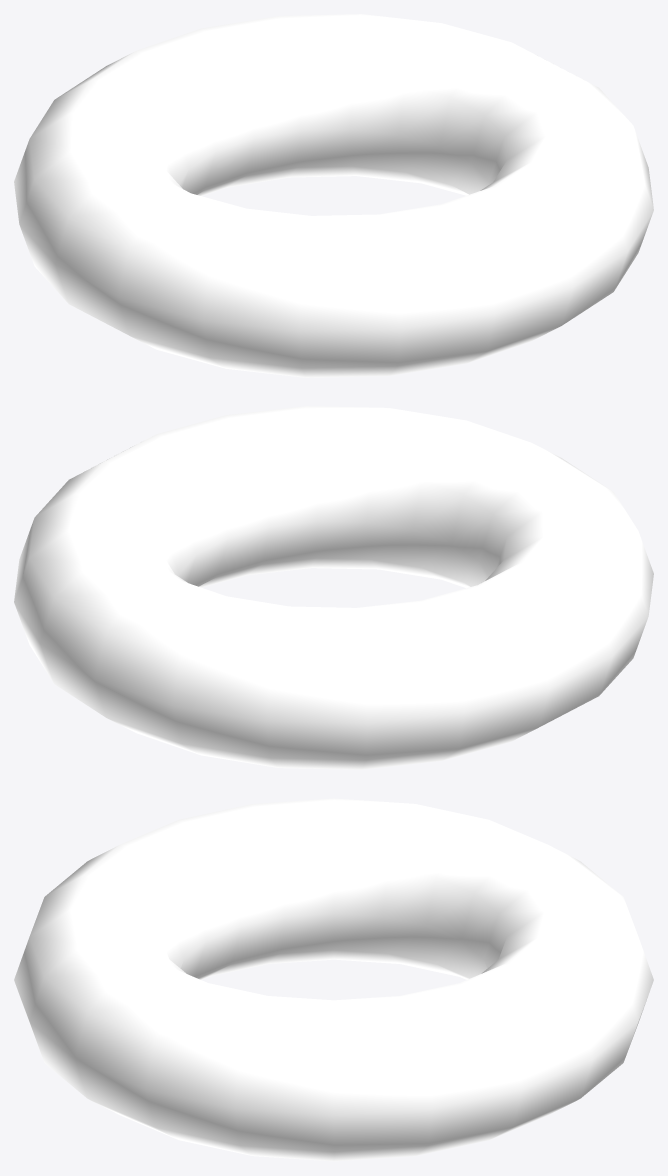
File: 74656a3f-1ae8-4d0f-aaf2-caf50f4433ab.glb
3 renders of one model, top to bottom at view 1: azimuth 30°, elevation 25°; view 2: azimuth 150°, elevation 25°; view 3: azimuth 270°, elevation 25°, orthographic.
Parts seen in each view (by area): view 1: BaseToroids.009; view 2: BaseToroids.009; view 3: BaseToroids.009.
Boxes of the visible parts, x1,y1,x2,y2 form: BaseToroids.009: [14, 14, 653, 377]; BaseToroids.009: [14, 406, 653, 769]; BaseToroids.009: [14, 798, 653, 1161].
Size of what is drawn, in the model's own units: 0.9438 by 0.2278 by 0.9438.
1 material, 1 textured.
